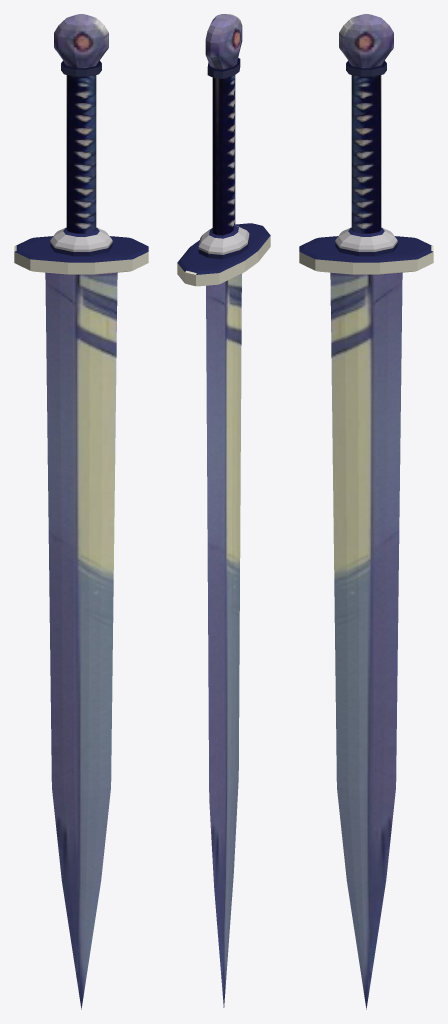
Rendered from SteelSword.fbx.
3 renders of one model, left to right at view 1: azimuth 90°, elevation 25°; view 2: azimuth 150°, elevation 25°; view 3: azimuth 270°, elevation 25°, orthographic.
Visible parts, largest first — view 1: Cube.001, Cube; view 2: Cube.001, Cube; view 3: Cube.001, Cube.
Part boxes in pixels (bbox=[...]): Cube.001: bbox=[45, 272, 117, 1009]; Cube: bbox=[14, 14, 148, 274]; Cube.001: bbox=[206, 273, 241, 1007]; Cube: bbox=[177, 14, 270, 286]; Cube.001: bbox=[330, 272, 402, 1009]; Cube: bbox=[299, 14, 433, 274].
Size of the model in its own units: 59.07 by 1016 by 124.
2 materials, 2 textured.
